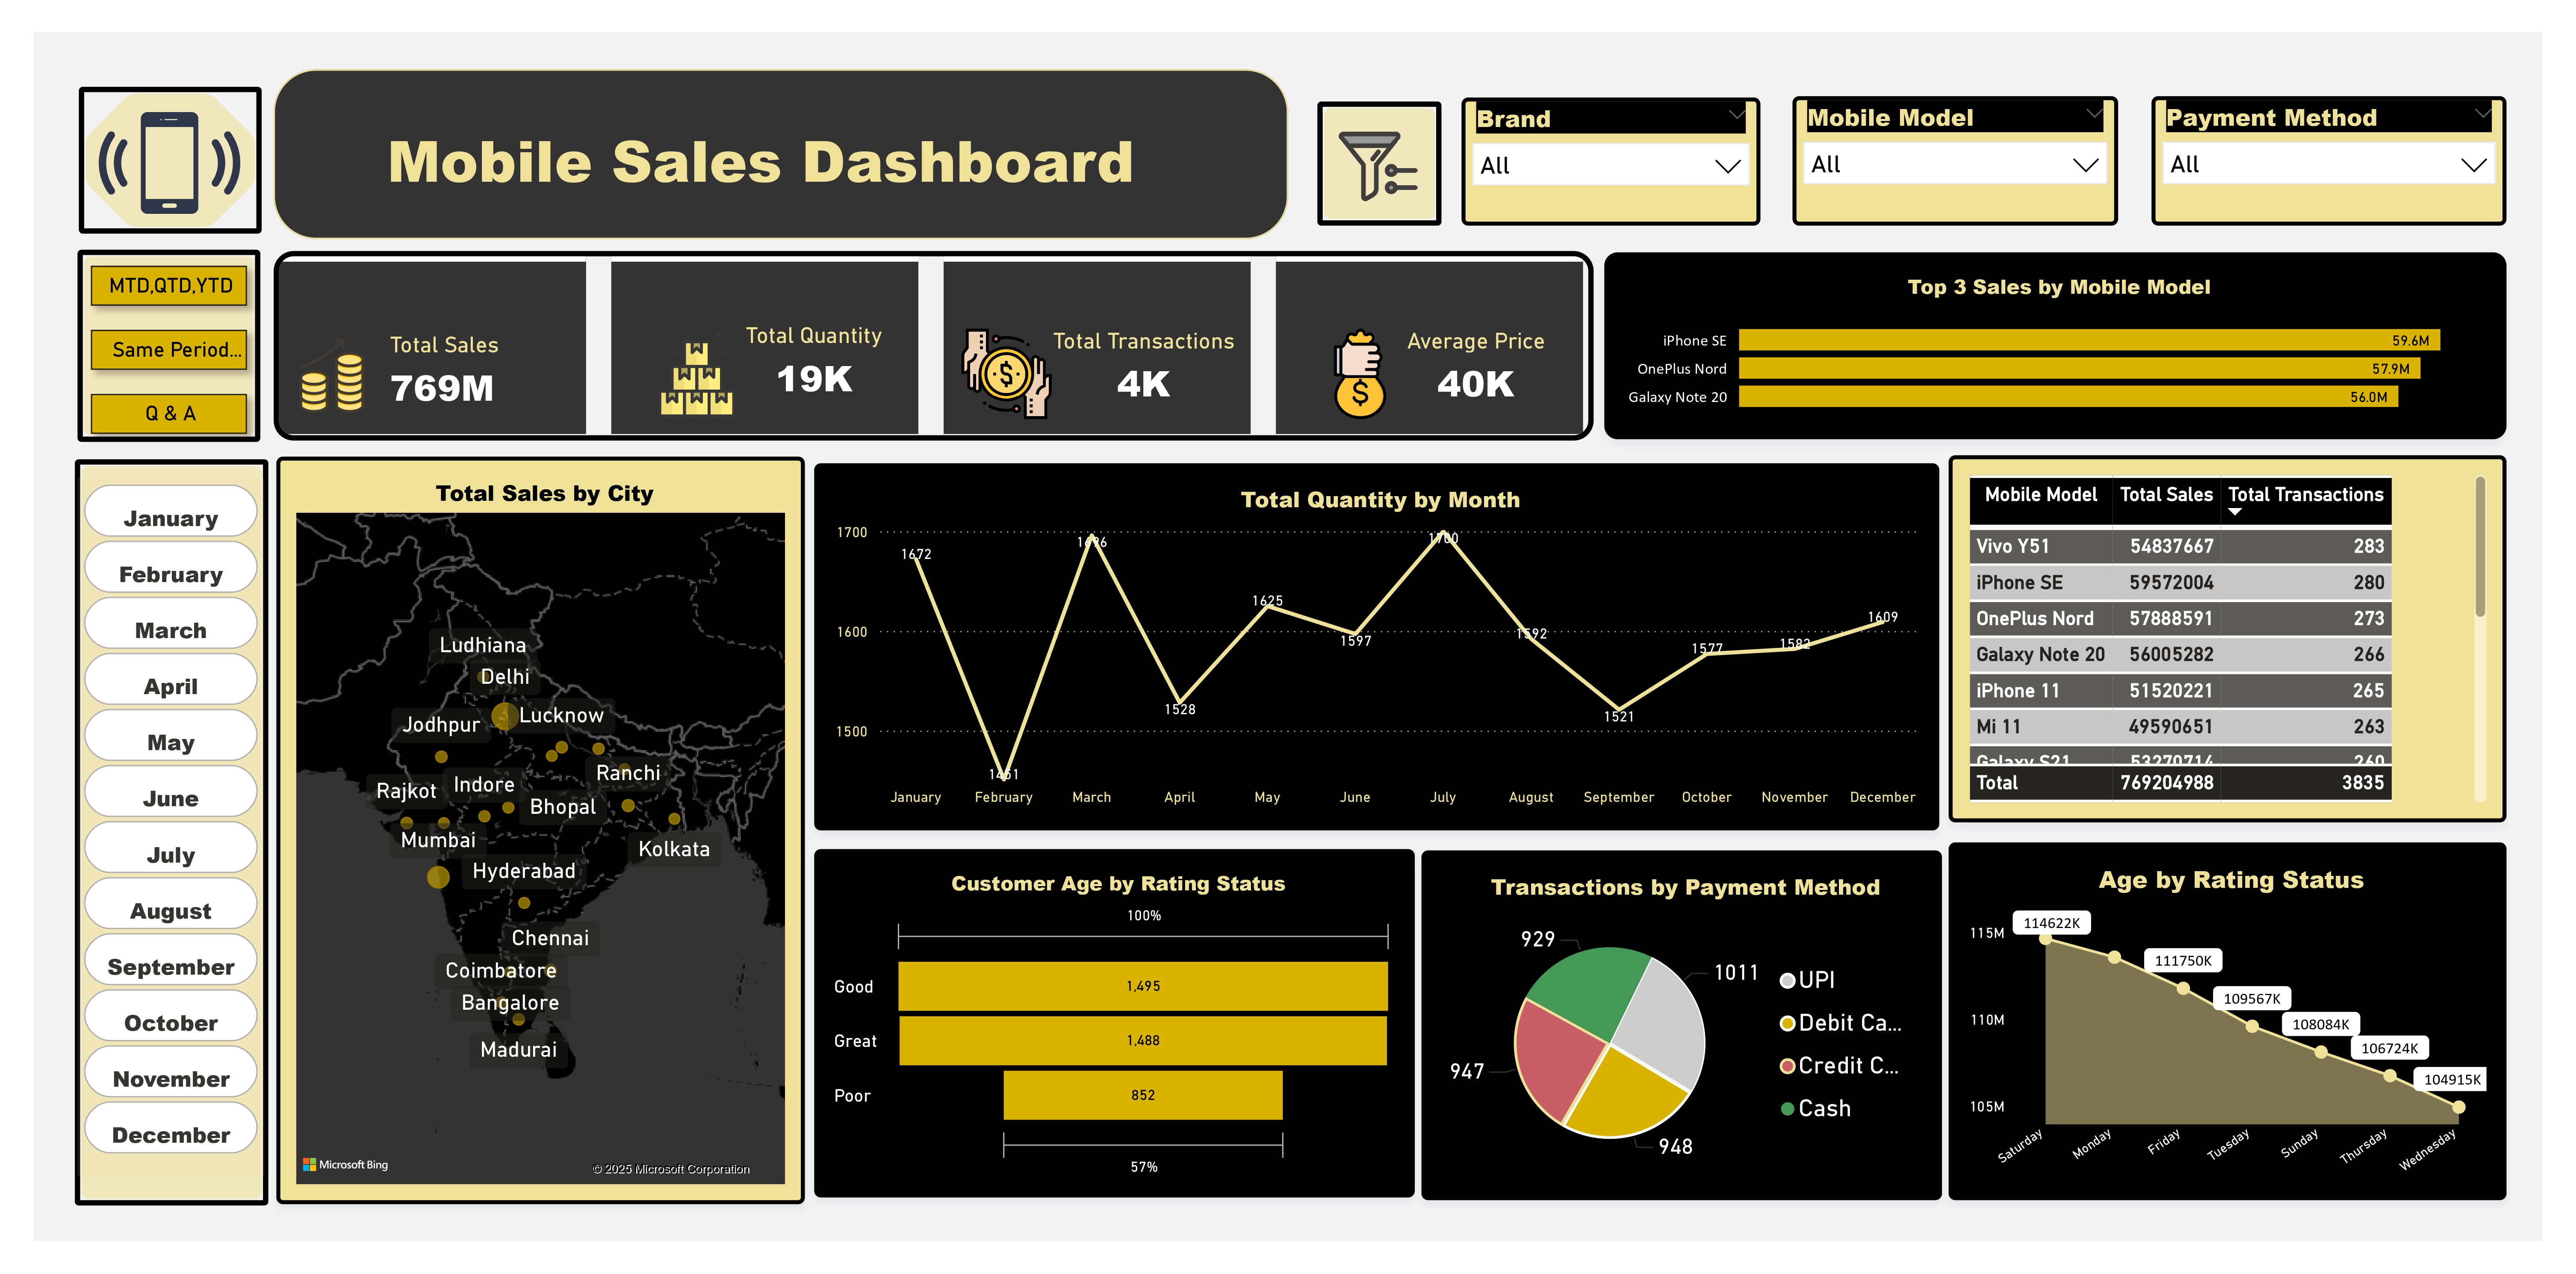

The page's visual inventory and layout, read from the dashboard file:
{"tool":"powerbi","page":{"name":"Dashboard","canvas":[1880,906],"ordinal":0},"visuals":[{"type":"shape","box":[34.3,41.4,137.1,110],"z":0},{"type":"image","box":[44.3,48.6,115.7,97.1],"z":1000},{"type":"shape","box":[31.4,320,144.3,558.6],"z":2000},{"type":"shape","box":[961.7,51.7,93.3,93.3],"z":3000},{"type":"shape","box":[180,28.3,760,126.7],"z":4000},{"type":"textbox","box":[225,60,640,81.7],"z":5000},{"type":"advancedSlicerVisual","fields":{"Values":["custom calendar.custom date.Variation.Date Hierarchy.Month"]},"box":[32.9,334.3,140,522.9],"z":6000},{"type":"cardVisual","fields":{"Data":["sales_data.Total Amount","sales_data.Total Quantity","sales_data.Total Transactions","sales_data.Average Price"]},"box":[180,164.3,988.6,141.4],"z":7000},{"type":"slicer","fields":{"Values":["sales_data.Payment Method"]},"box":[1586.7,48.3,266.7,96.7],"z":8000},{"type":"slicer","fields":{"Values":["sales_data.Brand"]},"box":[1070.2,48.5,223.3,96.7],"z":9000},{"type":"slicer","fields":{"Values":["sales_data.Mobile Model"]},"box":[1318.3,48.3,243.3,96.7],"z":10000},{"type":"image","box":[973.3,63.3,68.3,75],"z":11000},{"type":"map","fields":{"Category":["sales_data.City"],"Size":["sales_data.Total Amount"]},"box":[181.7,318.3,396.7,560],"z":12000},{"type":"lineChart","fields":{"Category":["custom calendar.custom date.Variation.Date Hierarchy.Month"],"Y":["sales_data.Total Quantity"]},"box":[585,323.3,843.3,275],"z":13000},{"type":"funnel","title":"Customer Age by Rating Status","fields":{"Category":["sales_data.Rating Status"],"Y":["CountNonNull(sales_data.Customer Age)"]},"box":[585,611.7,450,261.7],"z":14000},{"type":"pieChart","title":"Transactions by Payment Method","fields":{"Y":["sales_data.Total Transactions"],"Category":["sales_data.Payment Method"]},"box":[1040,613.3,390,261.7],"z":15000},{"type":"shape","box":[32.9,162.9,137.1,144.3],"z":16000},{"type":"clusteredBarChart","title":"Top 3 Sales by Mobile Model","fields":{"Category":["sales_data.Mobile Model"],"Y":["sales_data.Total Sales"]},"box":[1176.7,165,676.7,140],"z":17000},{"type":"areaChart","title":"Age by Rating Status","fields":{"Category":["custom calendar.Day Name"],"Y":["sales_data.Total Sales"]},"box":[1435,606.7,418.3,268.3],"z":18000},{"type":"tableEx","fields":{"Values":["sales_data.Mobile Model","sales_data.Total Sales","sales_data.Total Transactions"]},"box":[1435,316.7,418.3,275],"z":19000},{"type":"pageNavigator","box":[34,166,135,144],"z":20000}]}

Visuals, with their boxes in screenshot pixels (x1, y1, x2, y2):
shape: box(78, 87, 261, 234)
image: box(91, 97, 246, 227)
shape: box(74, 459, 267, 1205)
shape: box(1317, 101, 1442, 226)
shape: box(273, 70, 1288, 239)
textbox: box(333, 112, 1188, 221)
advancedSlicerVisual - custom calendar.custom date.Variation.Date Hierarchy.Month: box(76, 479, 263, 1177)
cardVisual - sales_data.Total Amount x sales_data.Total Quantity: box(273, 251, 1593, 440)
slicer - sales_data.Payment Method: box(2152, 97, 2508, 226)
slicer - sales_data.Brand: box(1462, 97, 1760, 226)
slicer - sales_data.Mobile Model: box(1794, 97, 2119, 226)
image: box(1333, 117, 1424, 217)
map - sales_data.City x sales_data.Total Amount: box(275, 457, 805, 1205)
lineChart - custom calendar.custom date.Variation.Date Hierarchy.Month x sales_data.Total Quantity: box(814, 464, 1940, 831)
"Customer Age by Rating Status" funnel: box(814, 849, 1415, 1198)
"Transactions by Payment Method" pieChart: box(1422, 851, 1943, 1200)
shape: box(76, 250, 259, 442)
"Top 3 Sales by Mobile Model" clusteredBarChart: box(1604, 252, 2508, 439)
"Age by Rating Status" areaChart: box(1949, 842, 2508, 1200)
tableEx - sales_data.Mobile Model x sales_data.Total Sales: box(1949, 455, 2508, 822)
pageNavigator: box(77, 254, 258, 446)
